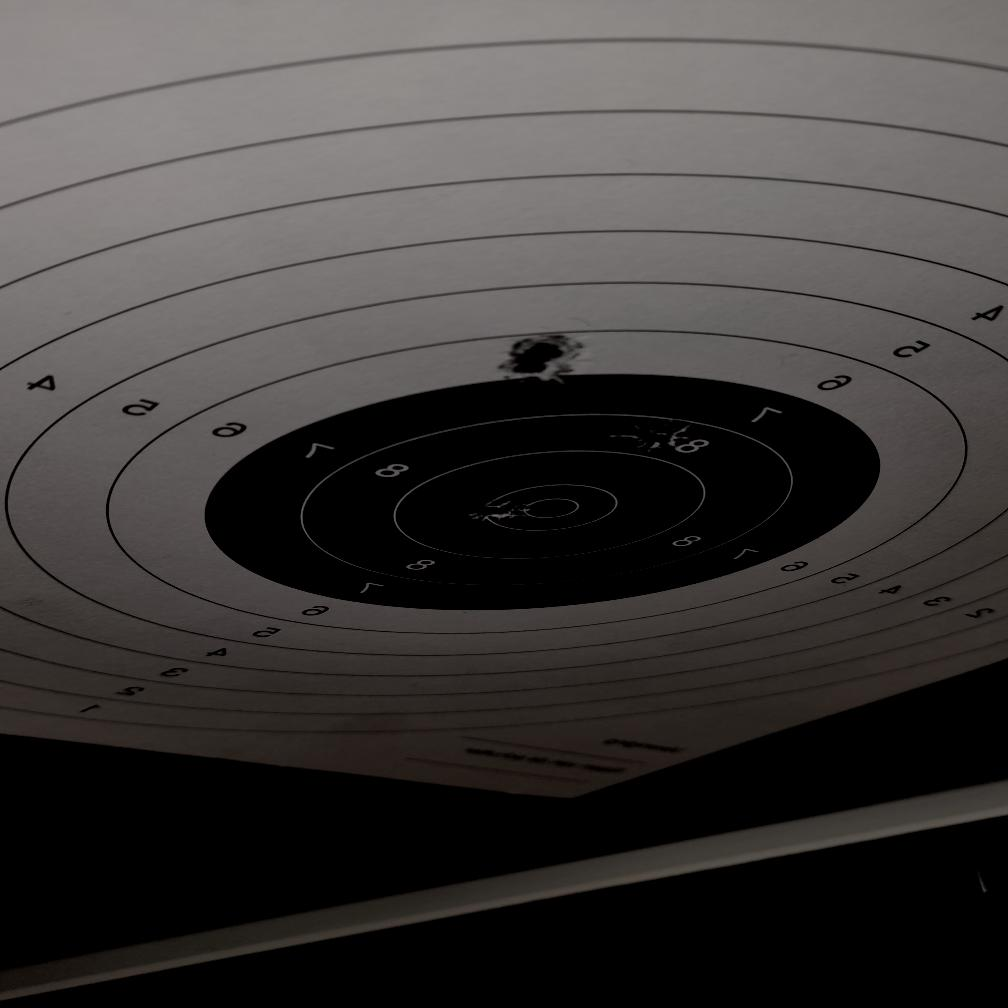10: (469, 500, 520, 524)
6: (511, 330, 584, 356)
7: (502, 357, 574, 388)
8: (615, 424, 690, 456)
Target: (0, 37, 1008, 737)
black_contour: (208, 372, 885, 615)
